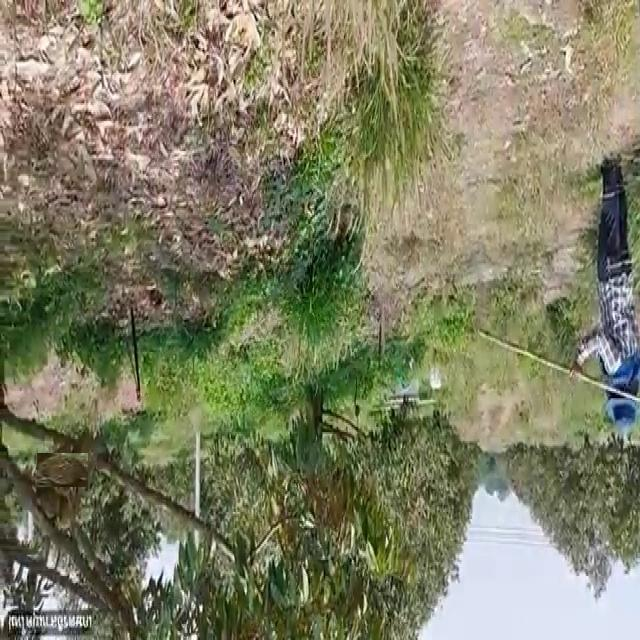durian: (42, 448, 84, 491)
